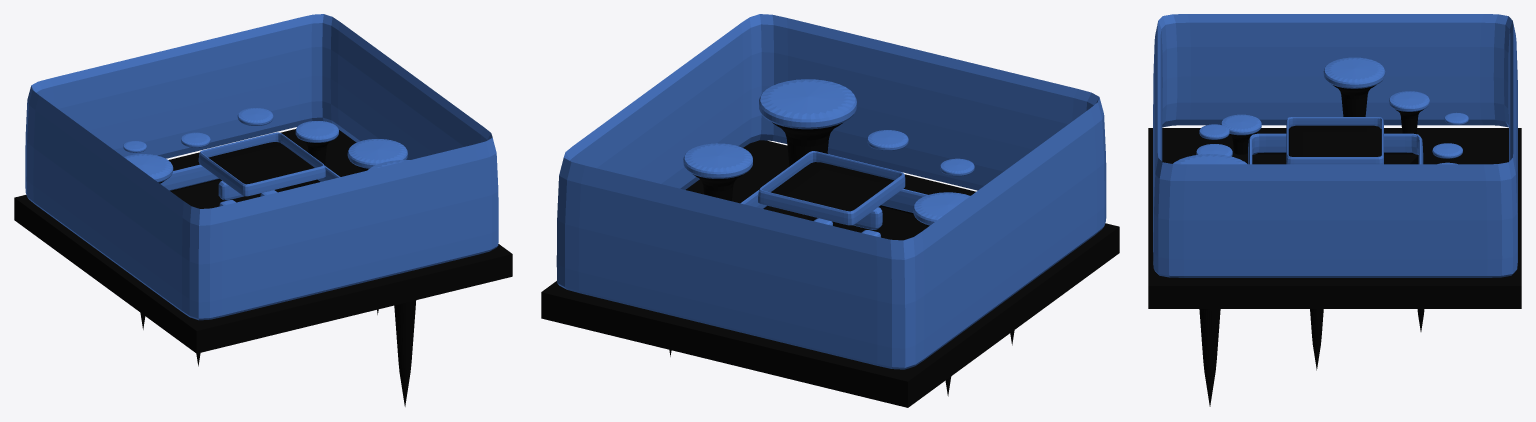
File: iansmap 1.obj
3 renders of one model, left to right at view 1: azimuth 30°, elevation 25°; view 2: azimuth 150°, elevation 25°; view 3: azimuth 270°, elevation 25°, orthographic. The views are drawn at different scales.
Visible parts, largest first — view 1: Cube.013, Cube.012, Cube.011, Cube.010, Cylinder.010, Cylinder.007, Cube, Cube.001, Cylinder.005, Cylinder.009, Cylinder.017; view 2: Cube.013, Cube.012, Cylinder.011, Cube.011, Cube.010, Cylinder.007, Cube, Cylinder.010, Cylinder.005, Cube.001, Cylinder.015, Cylinder.006 (+1 smaller); view 3: Cube.013, Cube.012, Cube.010, Cube.011, Cube.001, Cylinder.005, Cylinder.010, Cube, Cylinder.004, Cylinder.019, Cylinder.013, Cylinder.011 (+5 smaller).
Part boxes in pixels (<box>): Cube.013: <box>25,14,498,320</box>; Cube.012: <box>14,129,512,353</box>; Cube.011: <box>198,132,325,196</box>; Cube.010: <box>208,142,314,184</box>; Cylinder.010: <box>394,300,416,406</box>; Cylinder.007: <box>347,139,407,168</box>; Cube: <box>170,179,320,208</box>; Cube.001: <box>160,164,339,190</box>; Cylinder.005: <box>124,154,173,182</box>; Cylinder.009: <box>295,121,338,142</box>; Cylinder.017: <box>237,108,273,125</box>; Cube.013: <box>556,14,1106,369</box>; Cube.012: <box>541,140,1119,407</box>; Cylinder.011: <box>759,79,856,129</box>; Cube.011: <box>758,151,905,225</box>; Cube.010: <box>771,162,893,211</box>; Cylinder.007: <box>683,143,752,178</box>; Cube: <box>764,205,927,240</box>; Cylinder.010: <box>772,122,842,166</box>; Cylinder.005: <box>913,192,969,225</box>; Cube.001: <box>740,189,927,212</box>; Cylinder.015: <box>867,130,908,150</box>; Cylinder.006: <box>693,174,742,201</box>; Cube.013: <box>1153,14,1517,277</box>; Cube.012: <box>1148,128,1521,308</box>; Cube.010: <box>1288,125,1381,156</box>; Cube.011: <box>1286,117,1383,164</box>; Cube.001: <box>1248,133,1423,164</box>; Cylinder.005: <box>1323,57,1385,88</box>; Cylinder.010: <box>1199,309,1220,406</box>; Cube: <box>1252,153,1418,164</box>; Cylinder.004: <box>1333,85,1375,116</box>; Cylinder.019: <box>1389,91,1429,111</box>; Cylinder.013: <box>1221,114,1261,135</box>; Cylinder.011: <box>1173,154,1247,164</box>.
Size of the model in its own units: 76.64 by 62.94 by 76.64.
